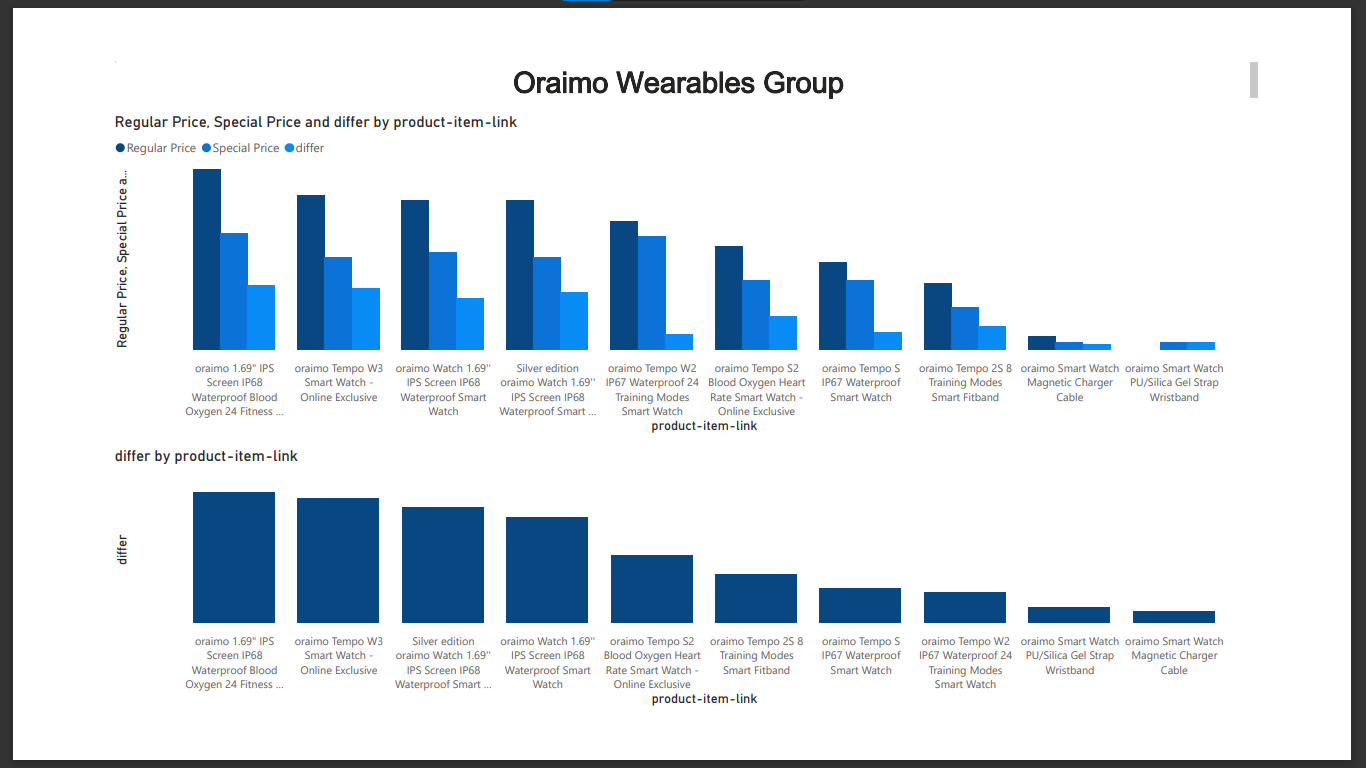

Layout of this report page (visuals, bound fields, positions):
{"tool":"powerbi","page":{"name":"Page 6","canvas":[1280,720],"ordinal":5},"visuals":[{"type":"textbox","box":[9.9,0,1269.5,50.7],"z":0},{"type":"lineClusteredColumnComboChart","fields":{"Category":["Wearables.product-item-link"],"Y":["Sum(Wearables.Regular Price)","Sum(Wearables.Special Price)","Sum(Wearables.differ)"]},"box":[9.9,60.6,1269.5,357.9],"z":1},{"type":"lineClusteredColumnComboChart","fields":{"Category":["Wearables.product-item-link"],"Y":["Sum(Wearables.differ)"]},"box":[10,429,1270,291],"z":2}]}

Visuals, with their boxes in screenshot pixels (x1, y1, x2, y2), scaled from the page's 1280x720 canvas onto the 1366x768 screenshot:
textbox: bbox=(11, 0, 1365, 54)
lineClusteredColumnComboChart - Wearables.product-item-link x Sum(Wearables.Regular Price): bbox=(11, 65, 1365, 446)
lineClusteredColumnComboChart - Wearables.product-item-link x Sum(Wearables.differ): bbox=(11, 458, 1365, 767)
